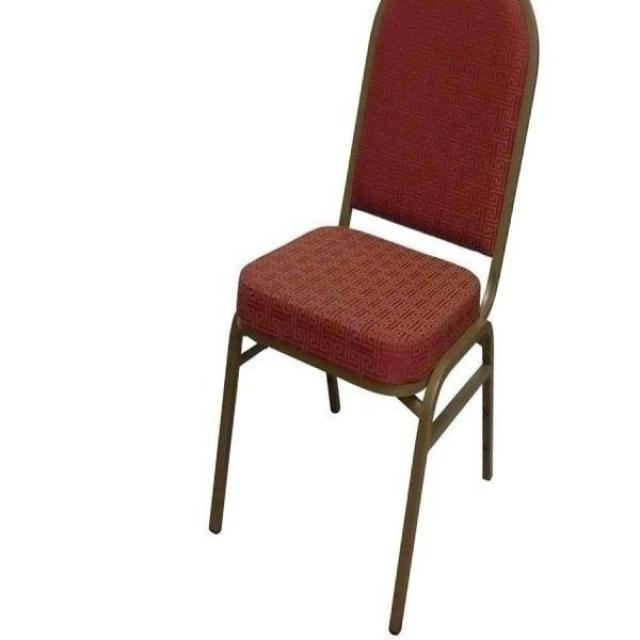Chair: (205, 1, 551, 639)
